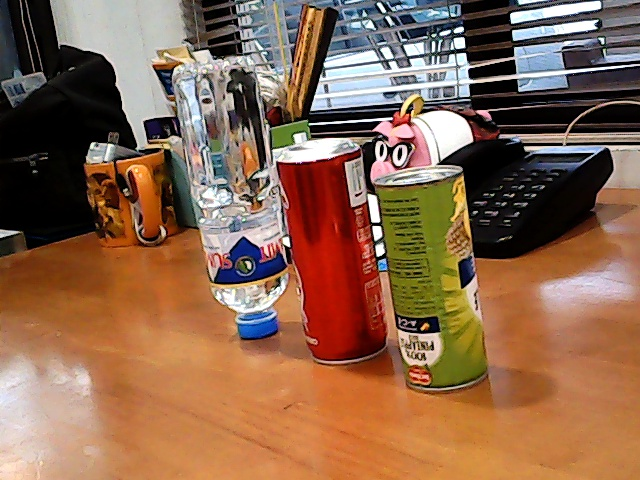Cola: (276, 141, 384, 363)
Pine Juice: (375, 154, 492, 395)
Summit Water: (188, 61, 292, 342)
